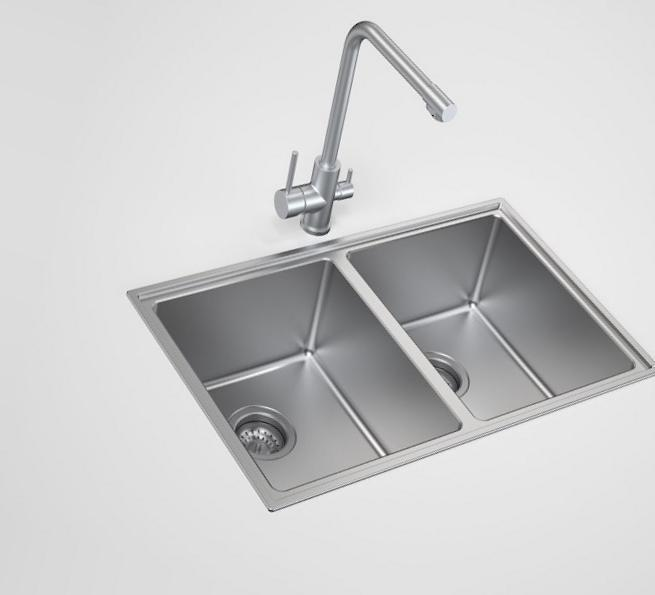Lavaplatos: (110, 24, 654, 513)
